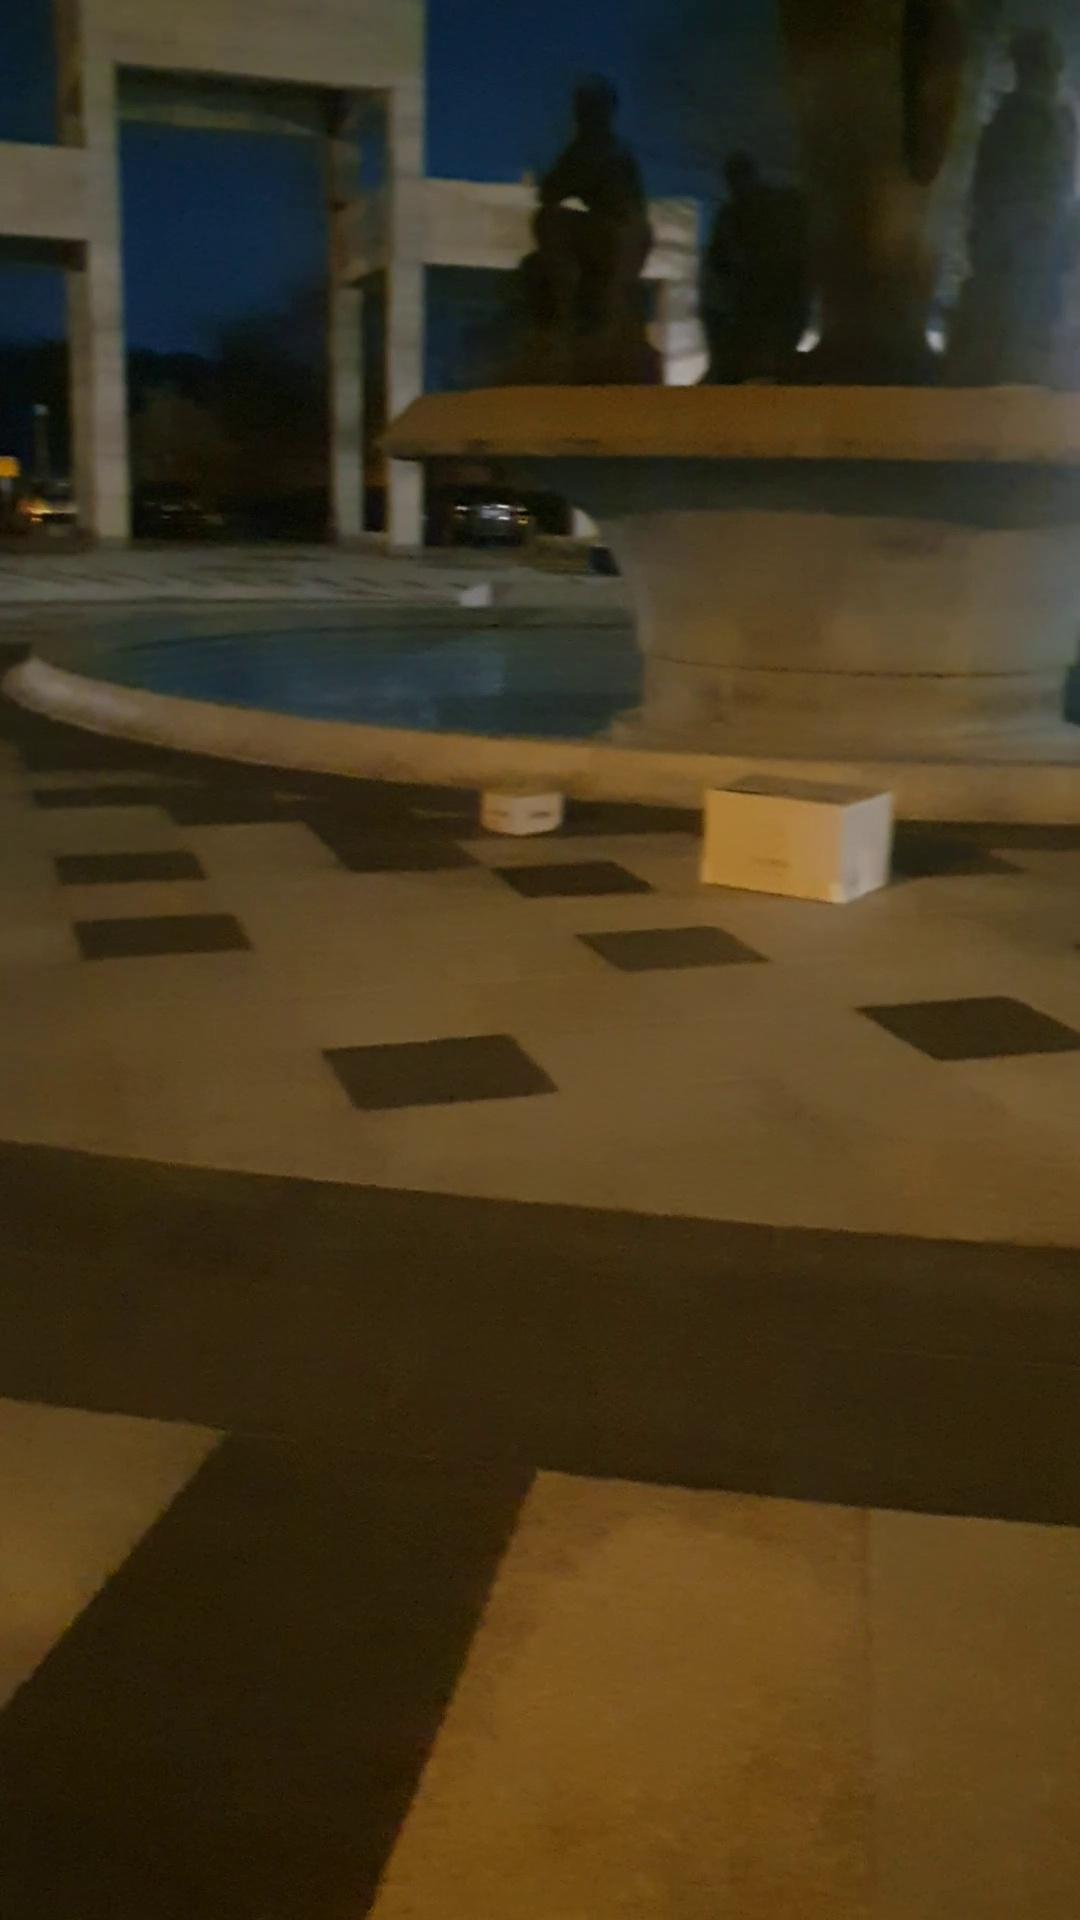Box: (680, 765, 905, 895), (473, 764, 585, 855)
